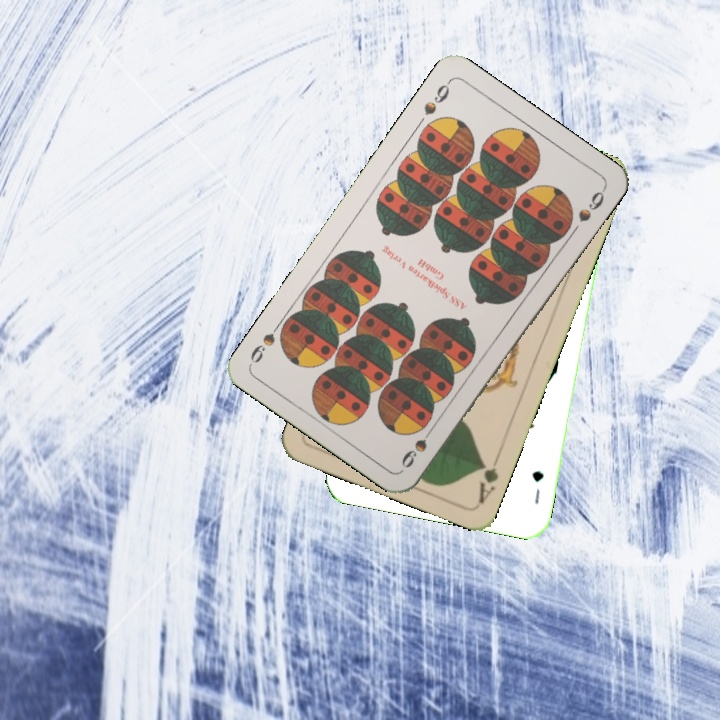GA: (474, 449, 503, 506)
GU: (528, 466, 547, 507)
S9: (397, 420, 438, 471), (419, 76, 454, 118)
